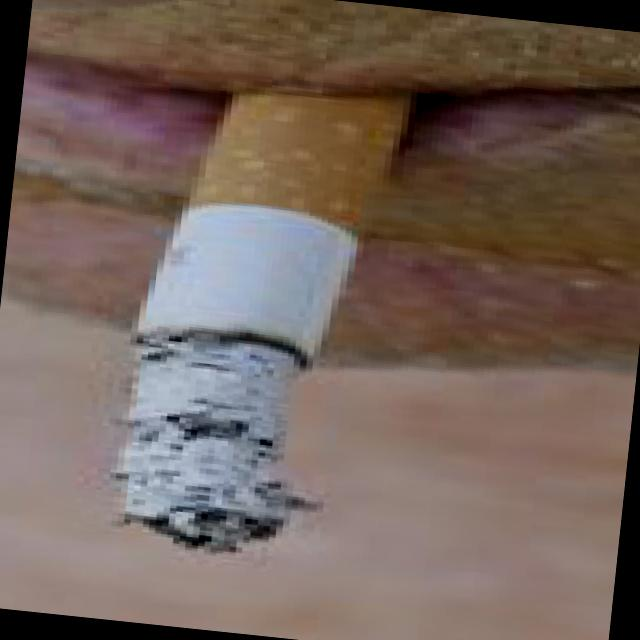smoke: (104, 70, 430, 560)
